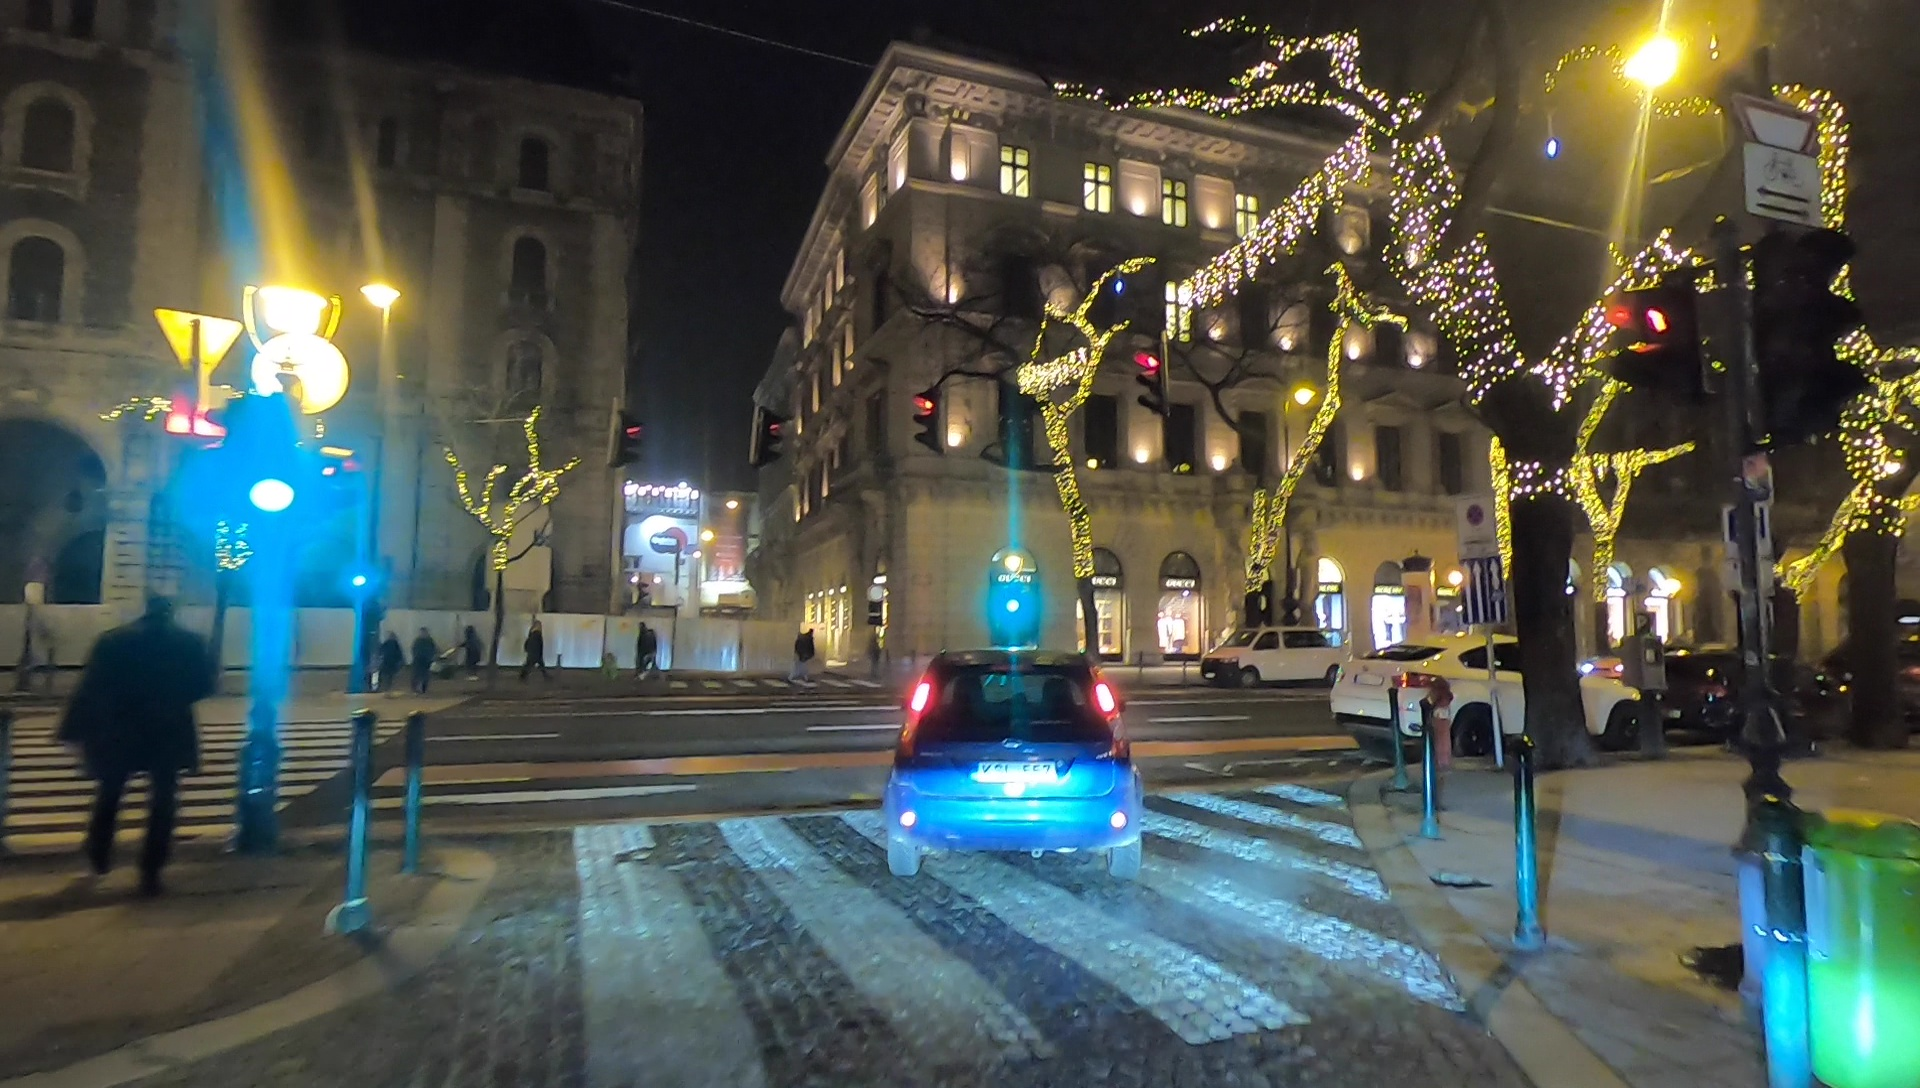person: (54, 578, 212, 887), (373, 626, 399, 704), (408, 623, 432, 697), (519, 615, 545, 687), (632, 619, 658, 686), (454, 626, 480, 684), (793, 626, 814, 687)
